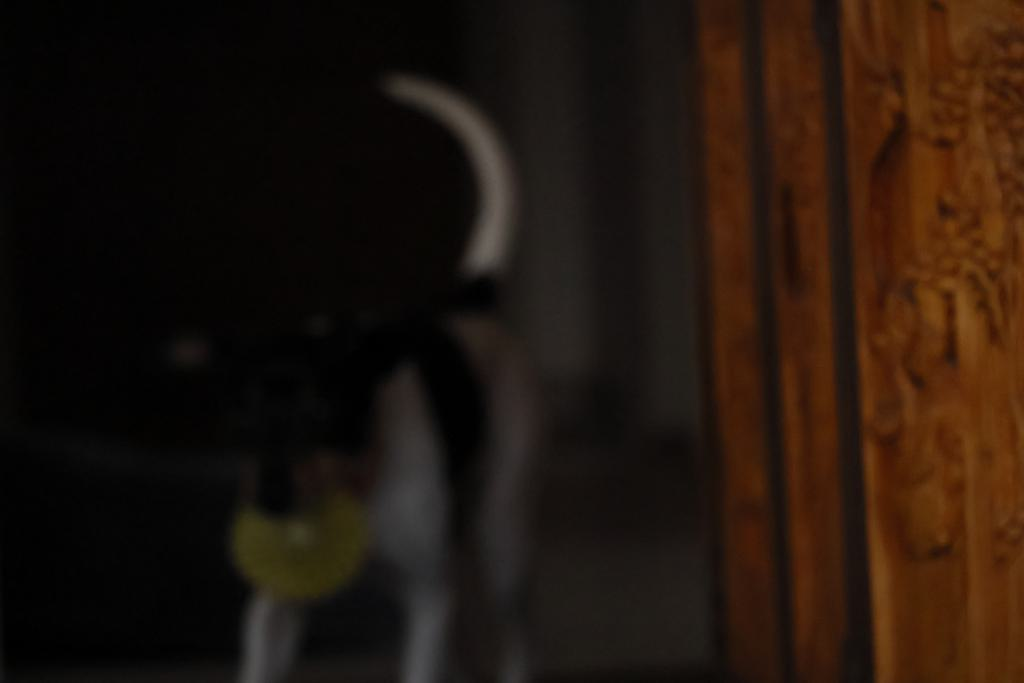Dog: (135, 77, 566, 683)
